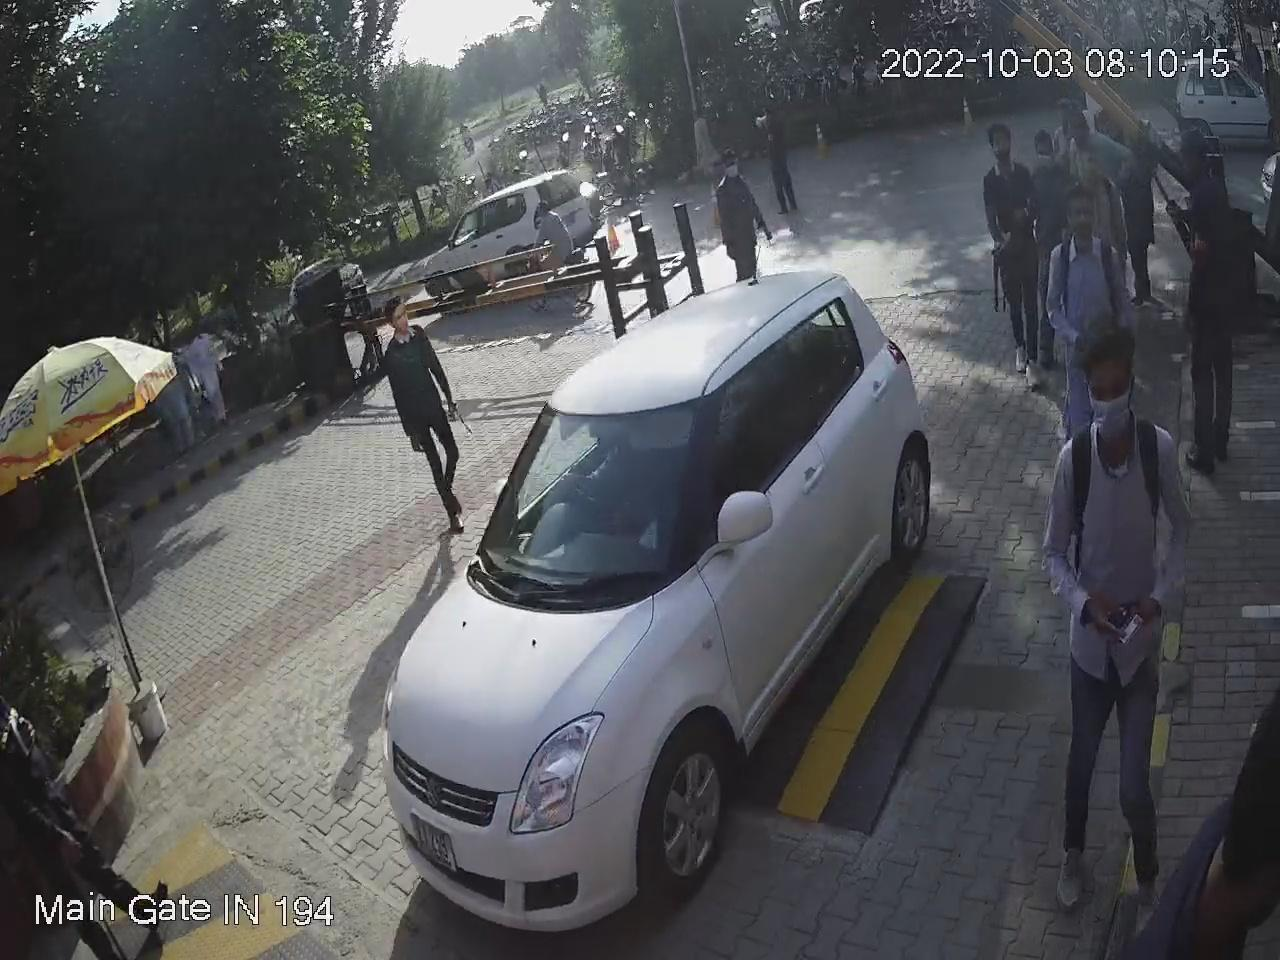windshield: (471, 380, 703, 590)
